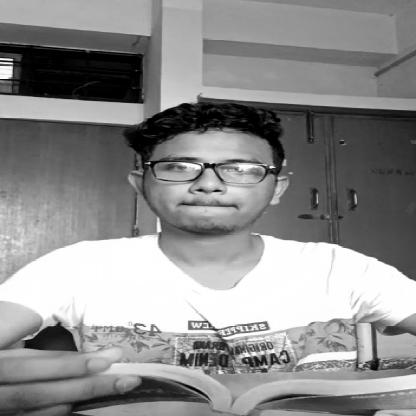Normal: (146, 95, 313, 231)
